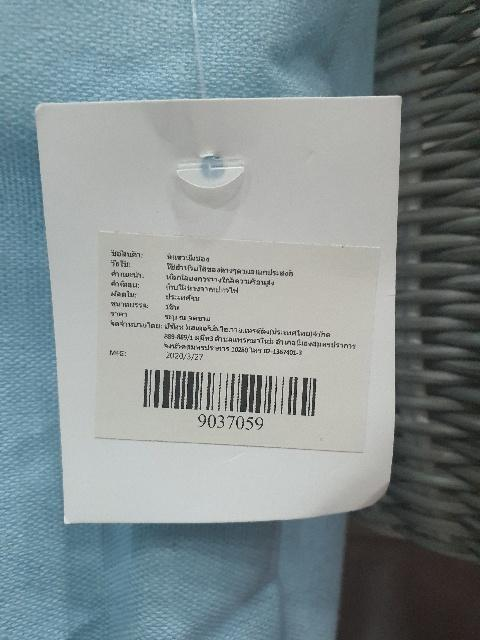Barcode: (131, 359, 329, 434)
